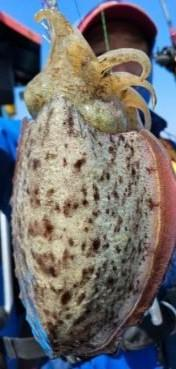Cephalopod: (10, 8, 175, 362)
